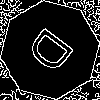D: (25, 25, 83, 81)
